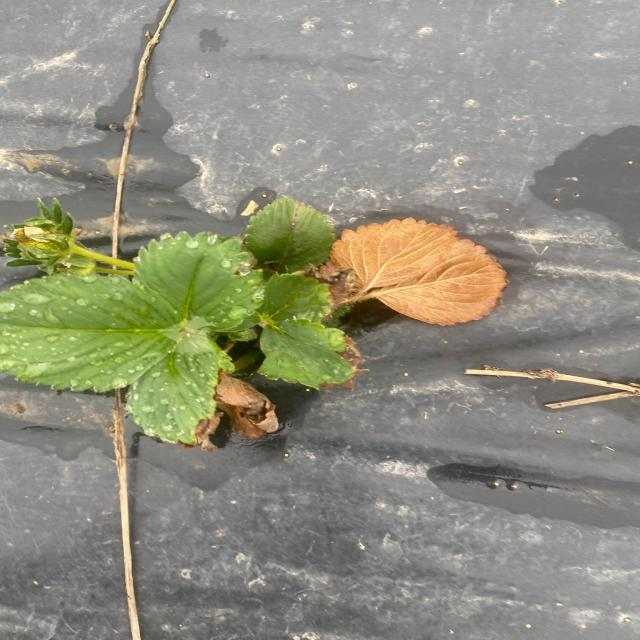flower: (0, 236, 271, 445)
